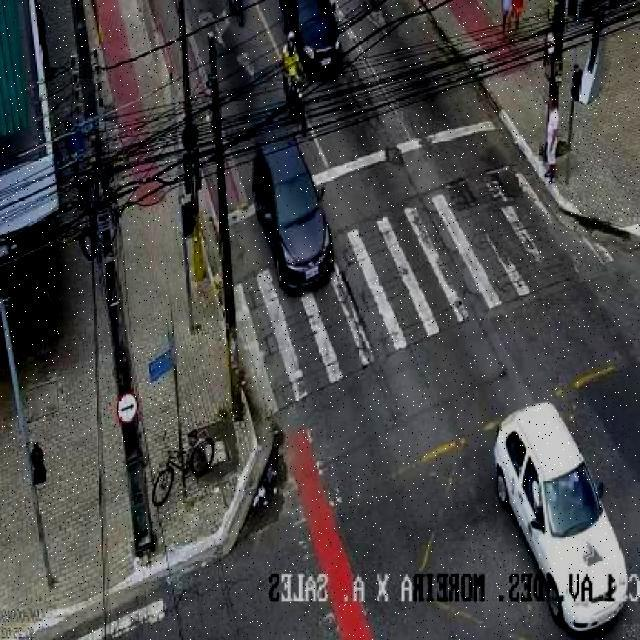Car: (490, 402, 635, 636), (252, 130, 338, 294), (280, 0, 342, 71)
Cycle: (278, 30, 312, 126)
